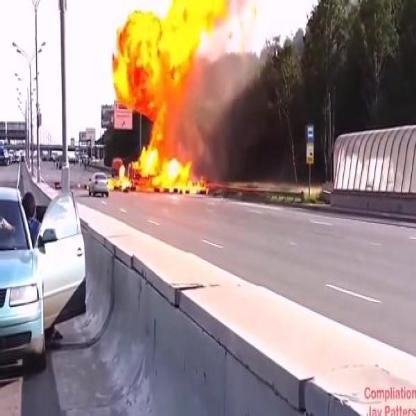fire: (115, 0, 232, 196)
